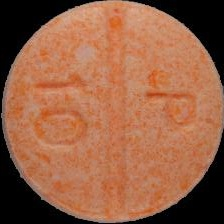63629-1423: (0, 0, 224, 224)
